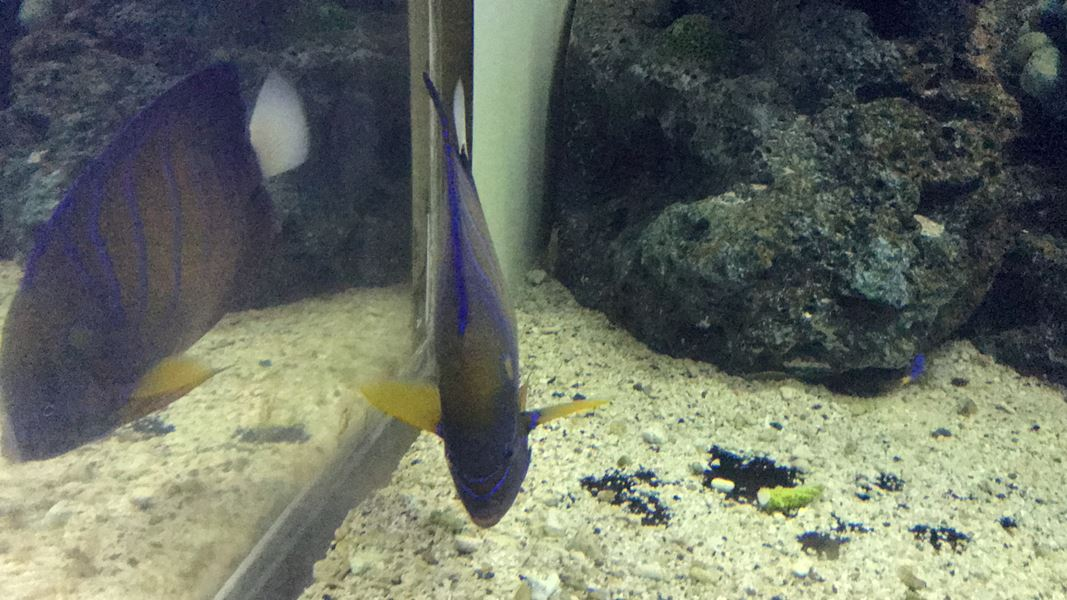Blue ring angelfish: (341, 64, 612, 541)
